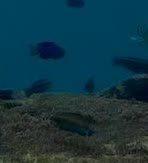smallfish: (26, 36, 71, 62)
